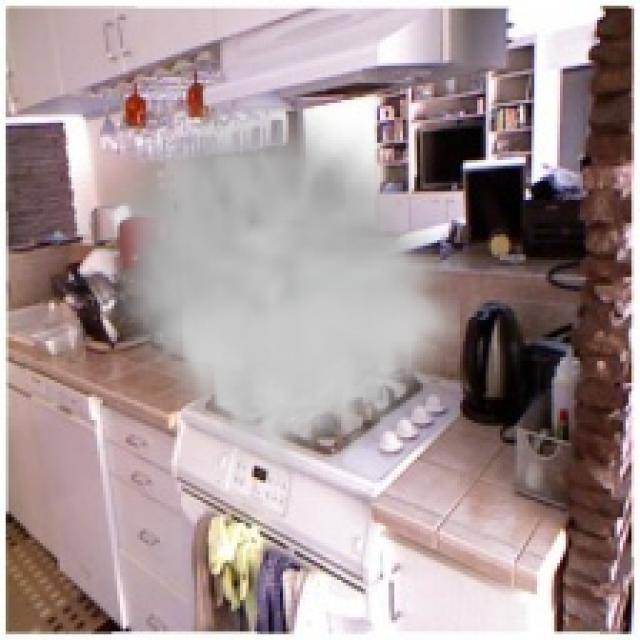Smoke: (100, 83, 460, 483)
